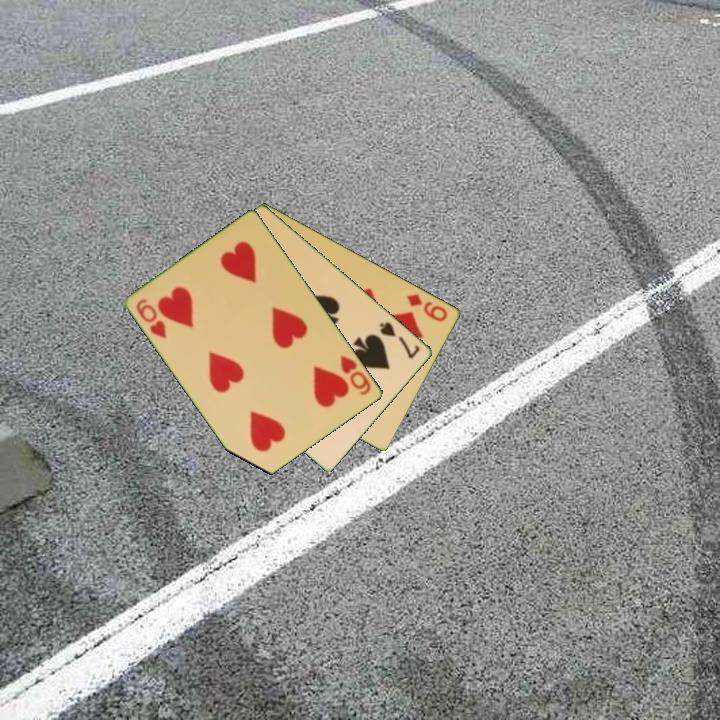6h: (337, 352, 374, 398), (133, 295, 170, 341)
7s: (376, 318, 423, 361)
9d: (404, 290, 451, 324)
